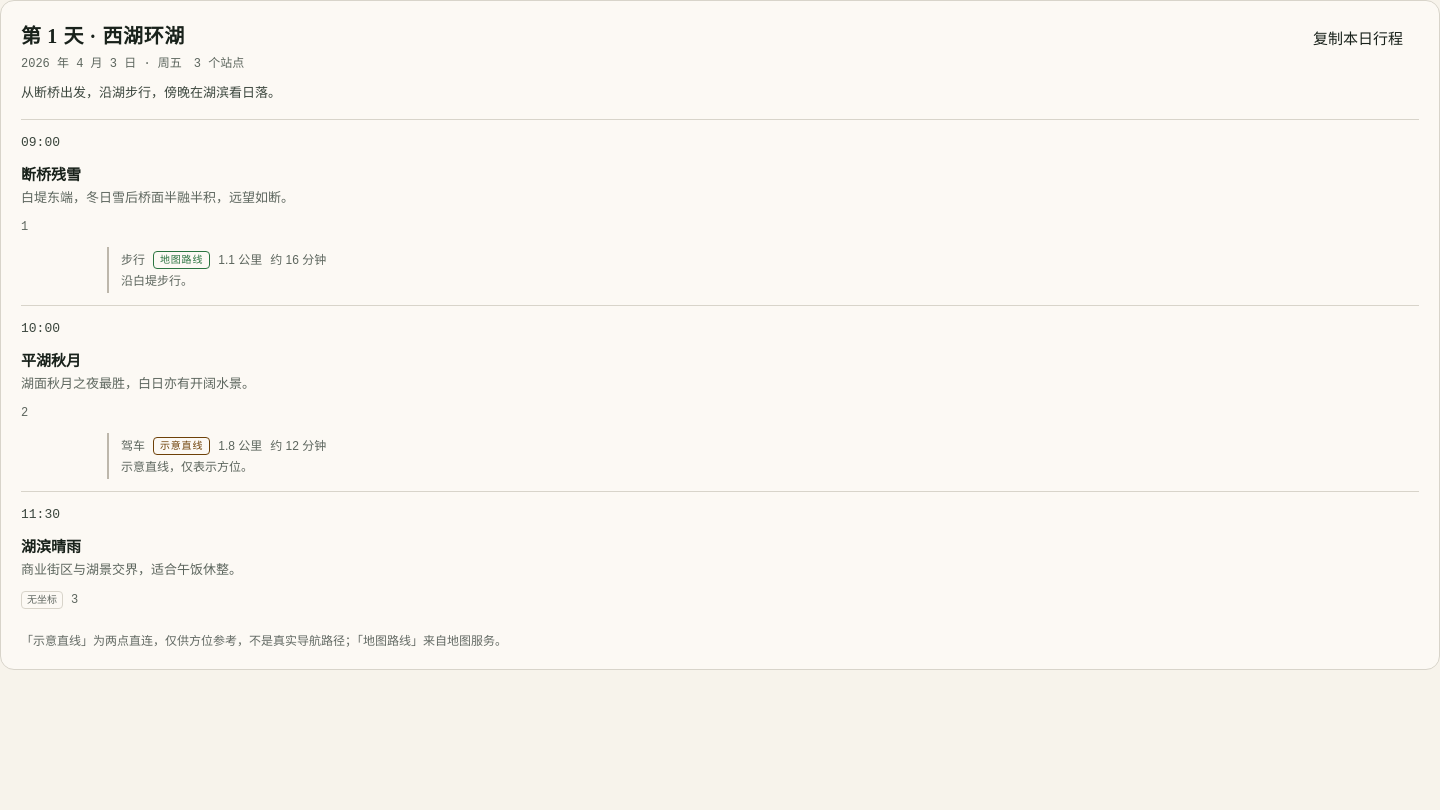
Test: ItineraryList 复制 › 剪贴板 API 可用时直接写入，不产生临时节点
Click the button "复制本日行程" at (1358, 39), box [1297, 21, 1419, 57]
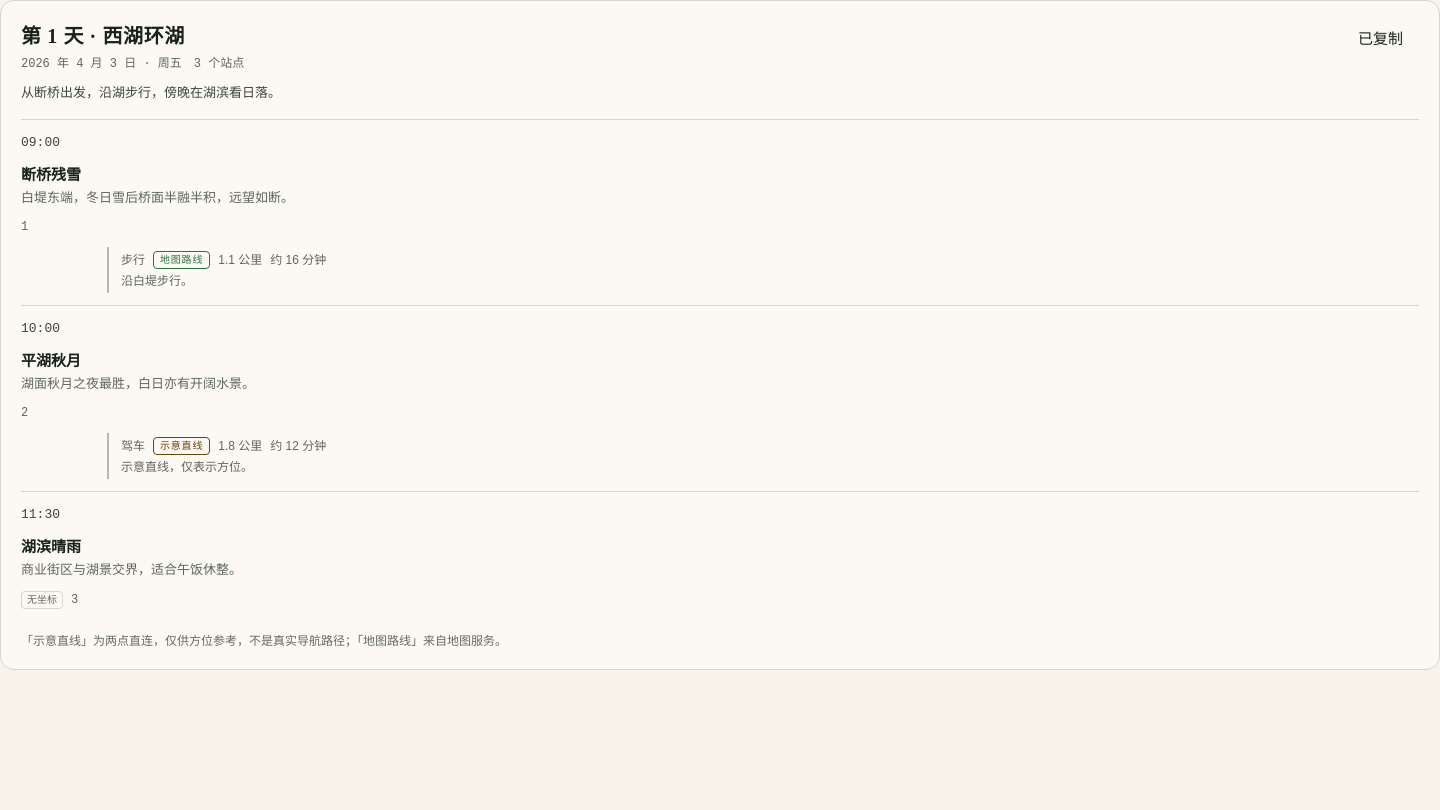
Now the button "已复制" is shown, box [1342, 21, 1419, 57]
